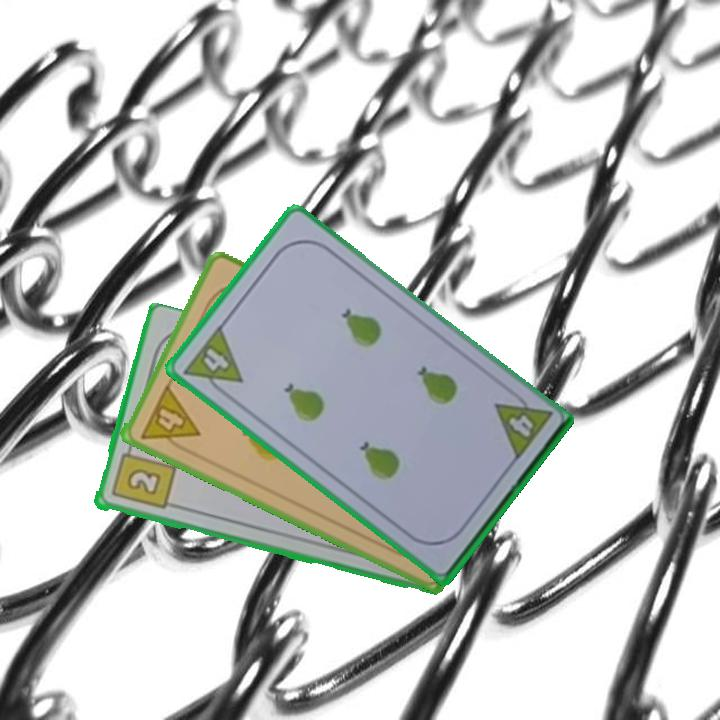2b: (107, 441, 177, 513)
4p: (179, 322, 246, 402), (491, 385, 554, 465), (136, 381, 202, 457)
